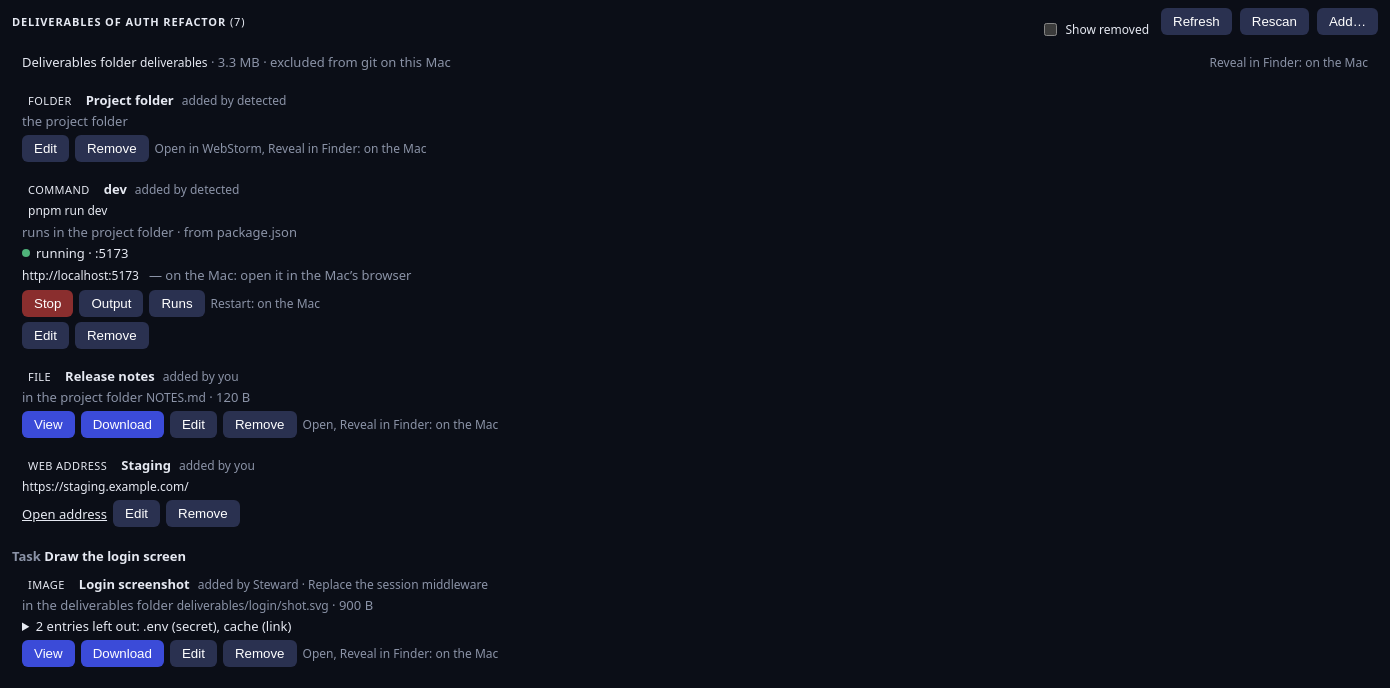
the phone and the desktop app (decisions 131, 134) › with autoApproveRemote the phone edits, but adds only paths inside the project
Expected: the button "Edit" below "Release notes" is shown, [170,411,217,438]
Click the button "Add…" at (1348, 22), box [1317,8,1378,35]
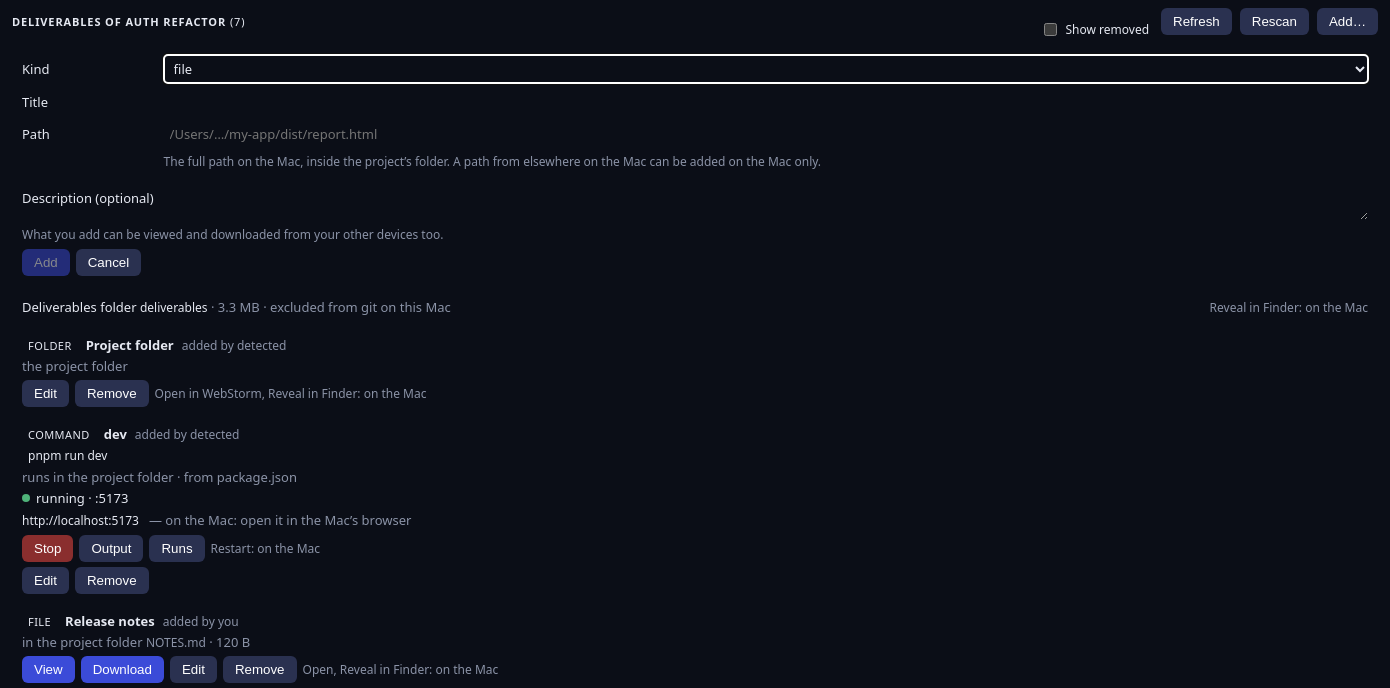
Expected: the form named "add a deliverable" shows "can be added on the Mac only", [164,153,821,170]
